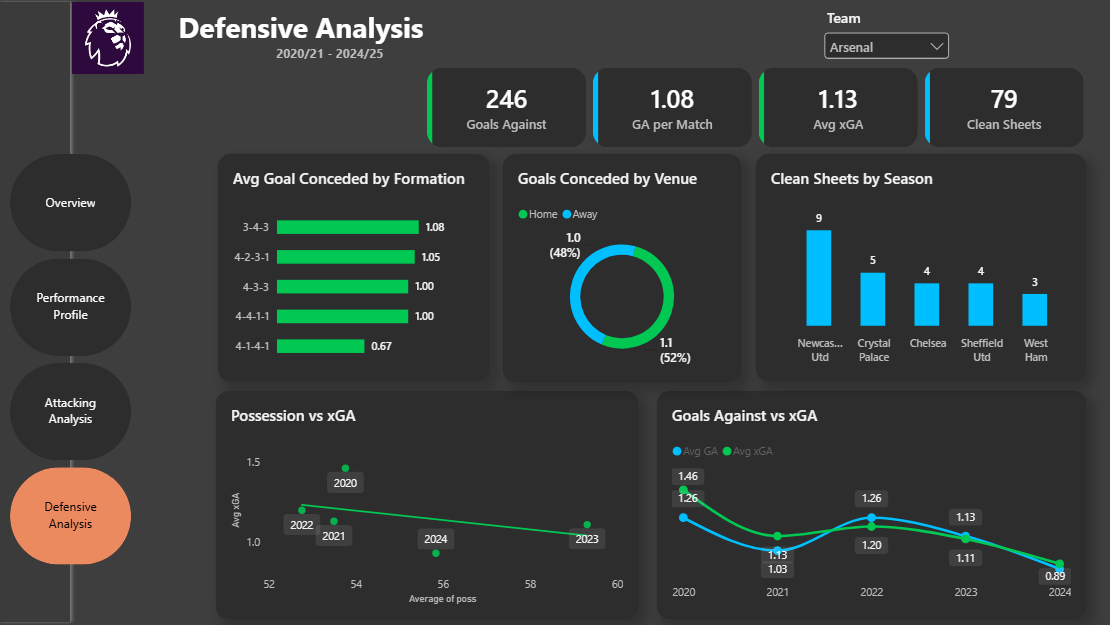

Layout of this report page (visuals, bound fields, positions):
{"tool":"powerbi","page":{"name":"Defensive Analysis","canvas":[1280,720],"ordinal":3},"visuals":[{"type":"cardVisual","fields":{"Data":["Sum(Fact Matches.ga)","DAX Measures.GA per Match","DAX Measures.Avg xGA","DAX Measures.Clean Sheets"]},"box":[495.6,82,750.8,90],"z":0},{"type":"textbox","box":[160,12.5,443.2,69.5],"z":1000},{"type":"shape","box":[0,0,95.7,720],"z":2000},{"type":"lineChart","title":"Goals Against vs xGA","fields":{"Category":["Fact Matches.season"],"Y":["Avg(Fact Matches.ga)","DAX Measures.Avg xGA"]},"box":[757.6,450,488.7,259.7],"z":3000},{"type":"barChart","title":"Avg Goal Conceded by Formation","fields":{"Category":["Fact Matches.formation"],"Y":["Avg(Fact Matches.ga)"]},"box":[257.3,180.5,308.5,258.7],"z":4000},{"type":"slicer","fields":{"Values":["Fact Matches.team"]},"box":[943.3,13.7,151.5,68.4],"z":5000},{"type":"scatterChart","title":"Possession vs xGA","fields":{"Category":["Fact Matches.season"],"X":["Avg(Fact Matches.poss)"],"Y":["DAX Measures.Avg xGA"]},"box":[255.2,450,480.8,259.7],"z":6000},{"type":"donutChart","title":"Goals Conceded by Venue","fields":{"Category":["Fact Matches.venue"],"Y":["Avg(Fact Matches.ga)"]},"box":[582.1,180.5,271.1,259.7],"z":7000},{"type":"columnChart","title":"Clean Sheets by Season","fields":{"Category":["Fact Matches.opponent"],"Y":["DAX Measures.Clean Sheets"]},"box":[870.4,180.5,375.9,258.7],"z":8000},{"type":"pageNavigator","box":[20.5,180,139,468.2],"z":8001},{"type":"image","box":[90,6.8,84.3,82],"z":8002}]}

Visuals, with their boxes in screenshot pixels (x1, y1, x2, y2), scaled from the page's 1280x720 canvas onto the 1110x625 screenshot:
cardVisual - Sum(Fact Matches.ga) x DAX Measures.GA per Match: 430/71/1081/149
textbox: 139/11/523/71
shape: 0/0/83/624
"Goals Against vs xGA" lineChart: 657/391/1081/616
"Avg Goal Conceded by Formation" barChart: 223/157/491/381
slicer - Fact Matches.team: 818/12/949/71
"Possession vs xGA" scatterChart: 221/391/638/616
"Goals Conceded by Venue" donutChart: 505/157/740/382
"Clean Sheets by Season" columnChart: 755/157/1081/381
pageNavigator: 18/156/138/563
image: 78/6/151/77
